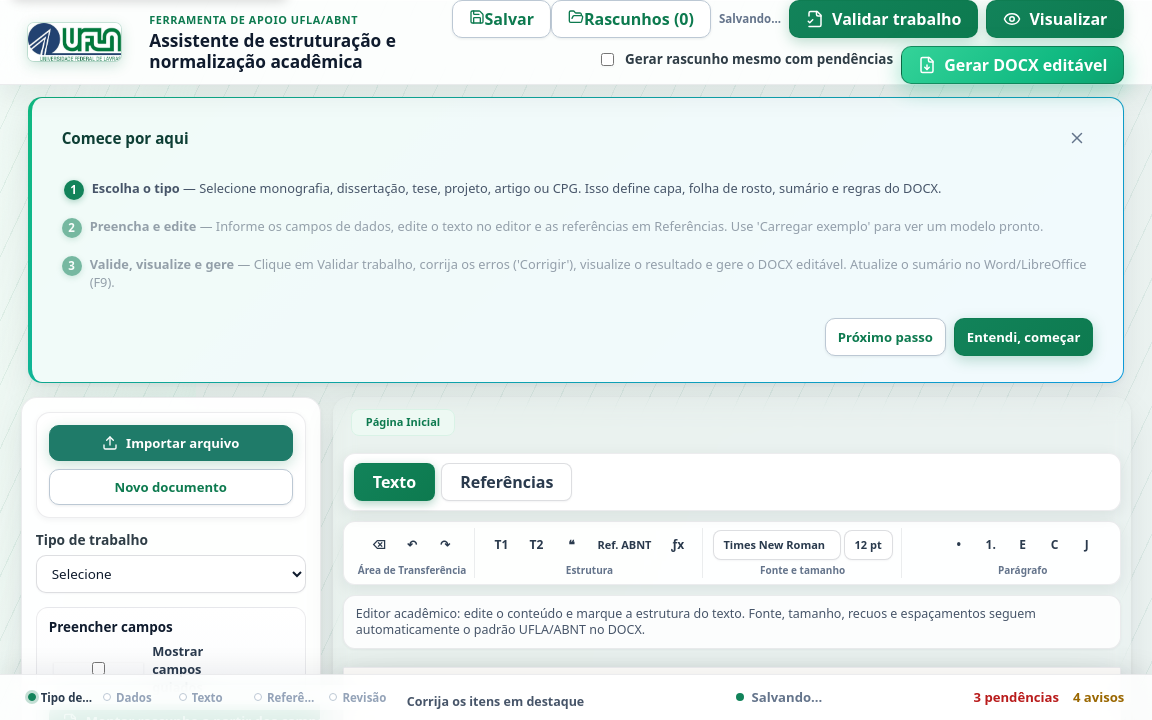
Scenario: Fase A — progresso, navegação de pendências e autosave › TEC-03: falha de geração mostra mensagem amigável
The image size is (1152, 720).
Select "Artigo acadêmico simples" in the dropdown labelled "Tipo de trabalho" at (171, 574), box x1=36 y1=555 x2=306 y2=593
(page scrolled)
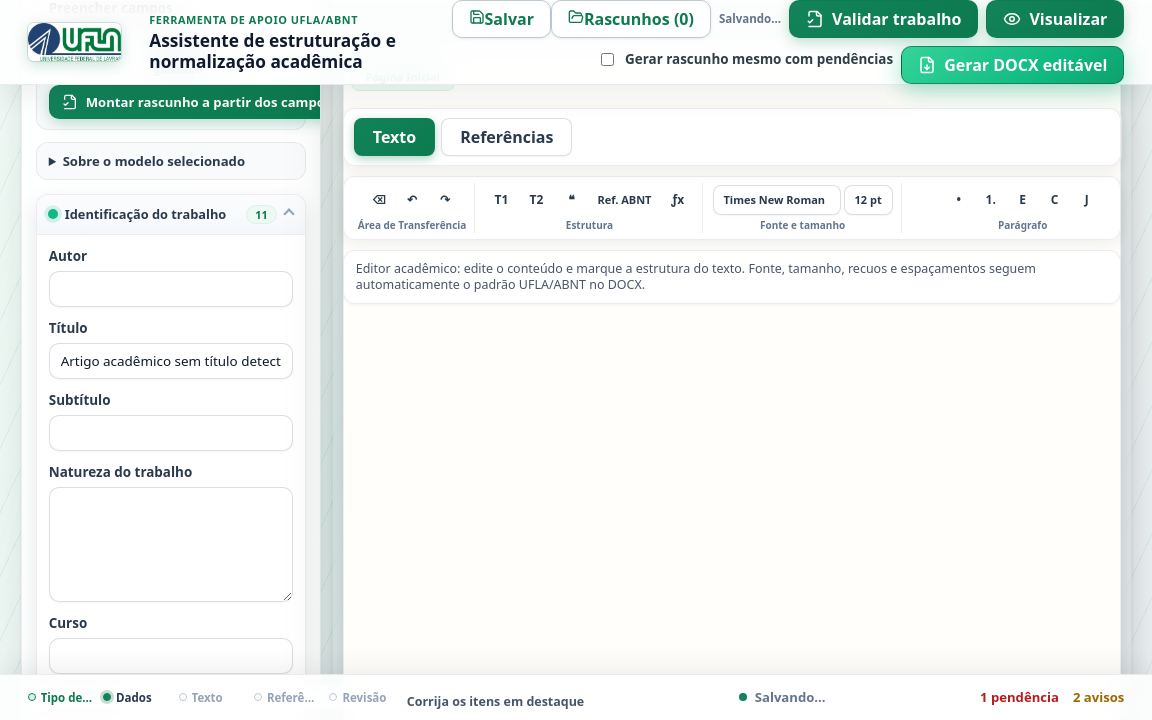
Replace the text in the field with id "title" with "Título de teste" at (171, 361), box x1=49 y1=343 x2=293 y2=379
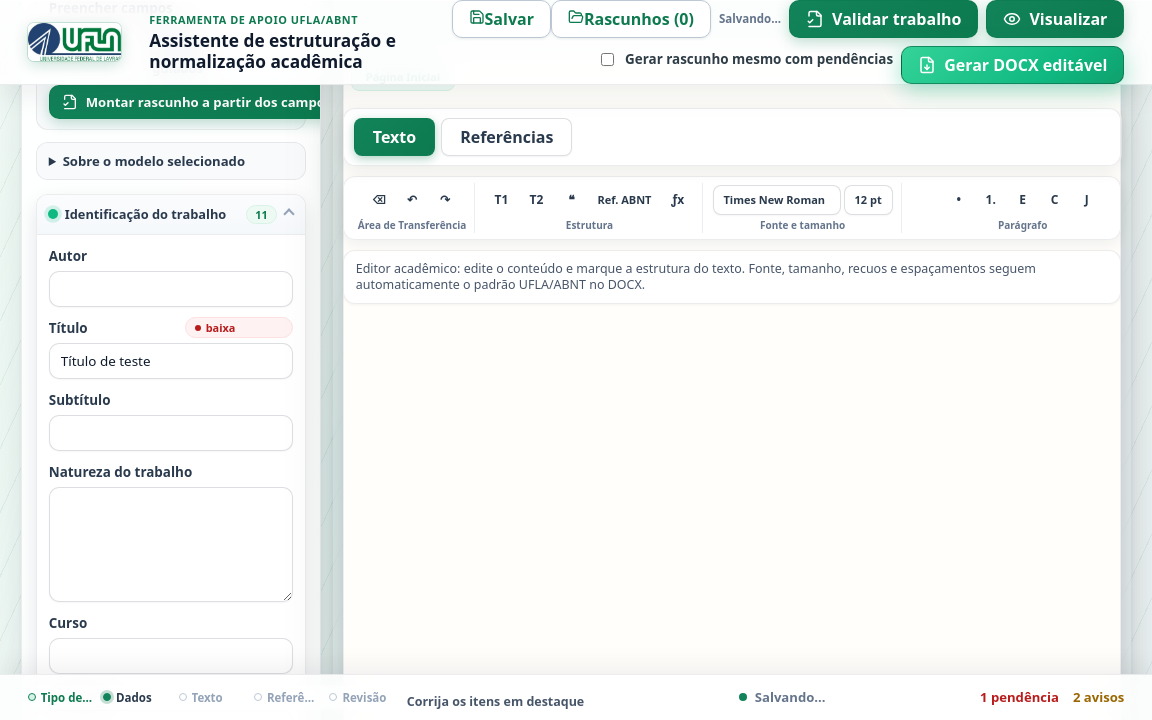
Type "Maria Silva" into the field with id "author" at (171, 289), box x1=49 y1=271 x2=293 y2=307
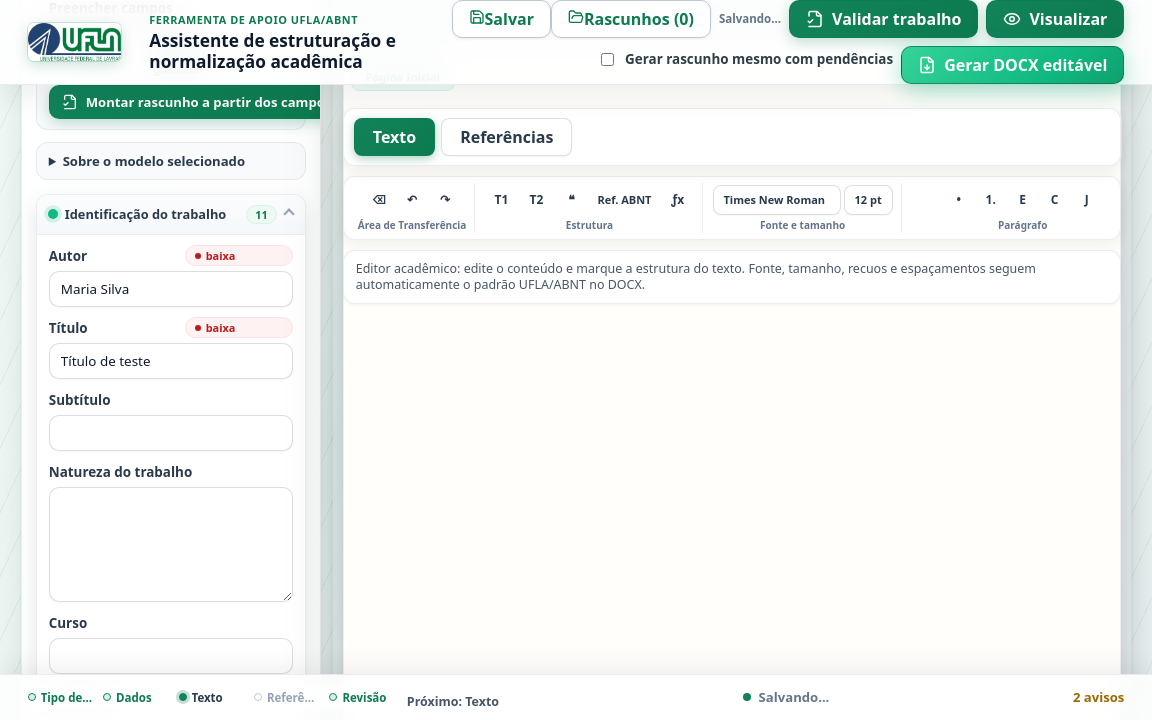
Click the button "Gerar DOCX editável" at (1013, 65), box x1=901 y1=46 x2=1124 y2=84
(page scrolled)
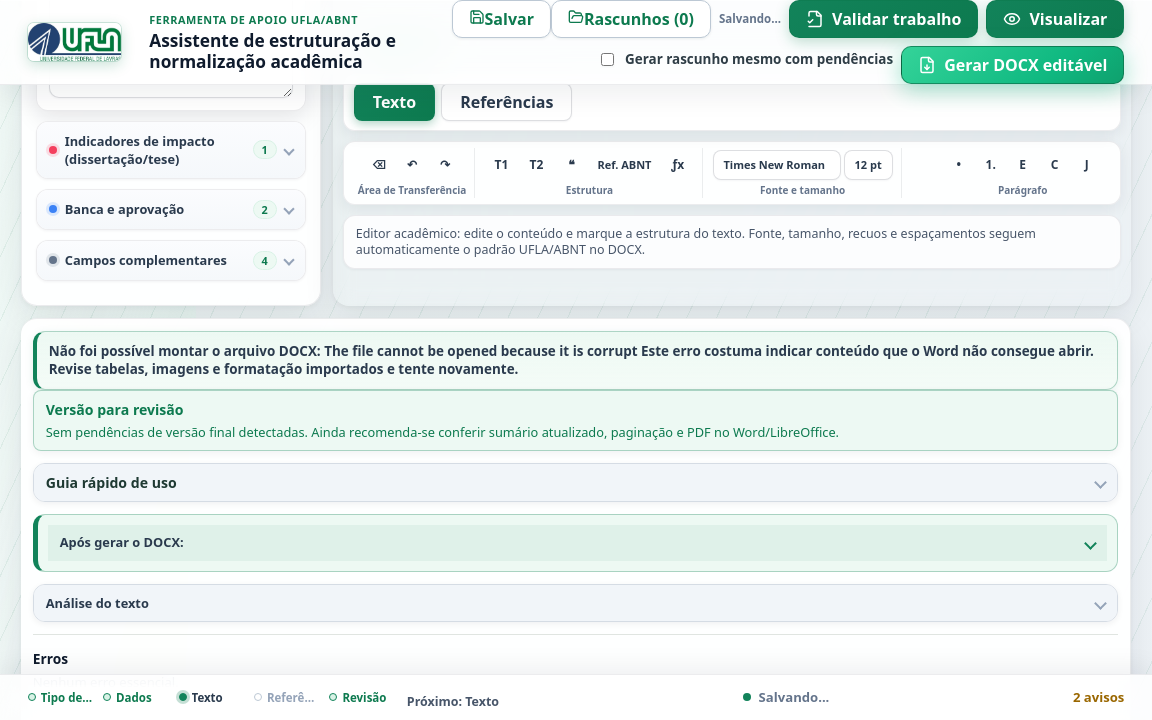
Expected: the message with class "status-line" shows "Não foi possível montar o arquivo DOCX", x1=49 y1=342 x2=1094 y2=378
